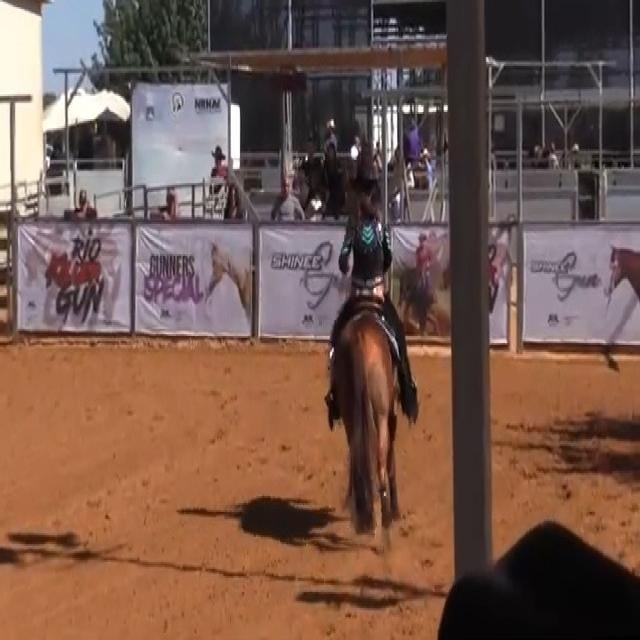horse: (330, 290, 405, 546)
